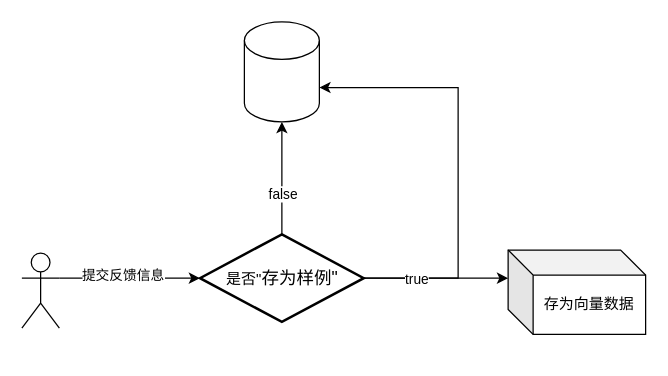
Image size: 668x376. Some labels were removed from this diagram. The shapes that lost their labels are listed below. From the top down, each one's centre as x and y in pixels, then its label:
the point at 281,71: 反馈记录
the point at 40,290: 用户
